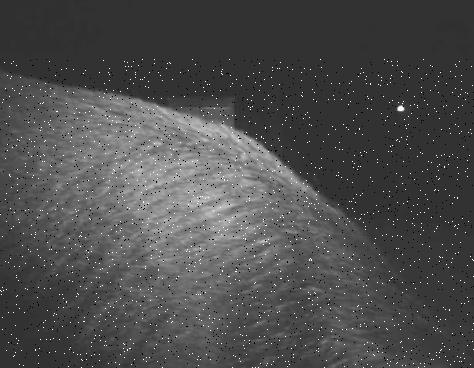Hog: (0, 59, 474, 368)
